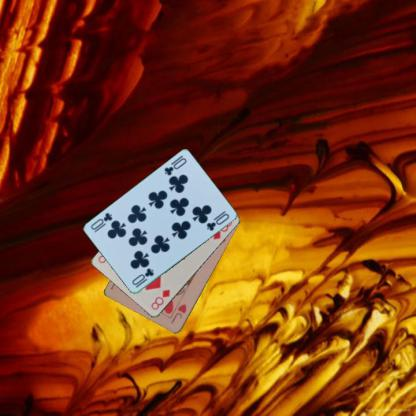10c: (129, 266, 155, 289), (161, 155, 188, 177)
8d: (149, 287, 171, 312)
Jh: (168, 302, 188, 325)
